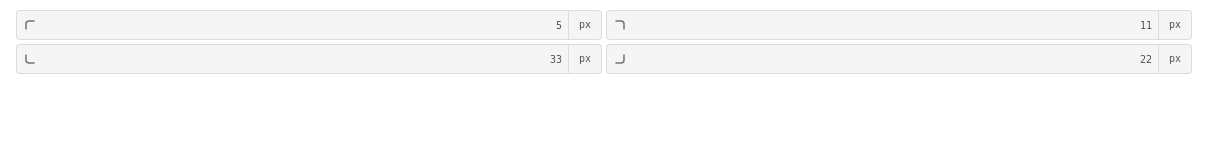
Test case: CornerRadiusEditor CornerCell (behavioral) › Enter commit exits edit mode (input goes away, span returns)
The image size is (1209, 160).
Click the text "5": (559, 25) [556, 20, 562, 30]
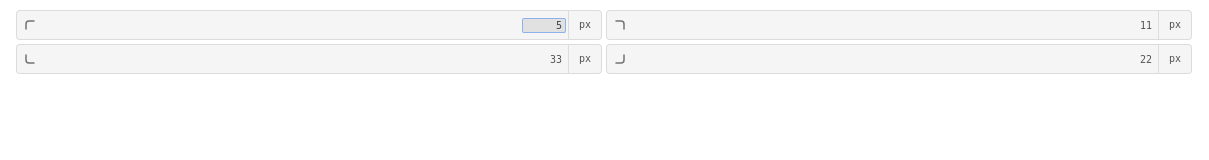
Replace the text in the field named "Top-left radius" with "7": (544, 25) [522, 18, 566, 32]
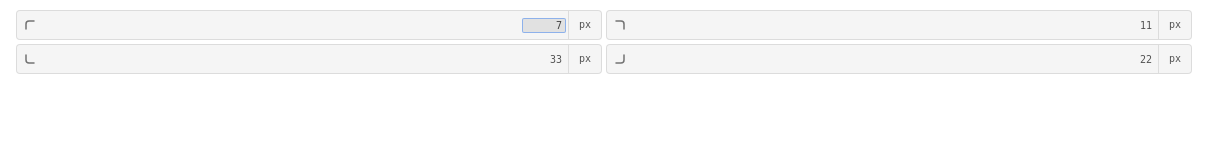
Press Enter in the field named "Top-left radius", box [522, 18, 566, 32]
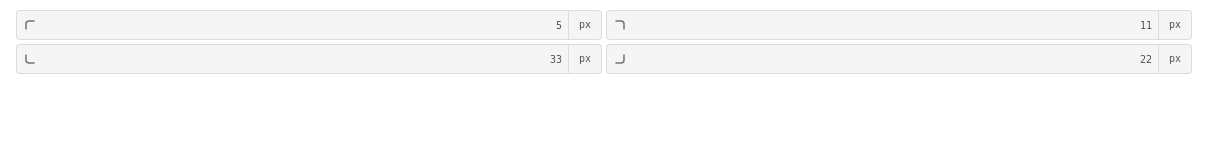
Check: the field is gone
